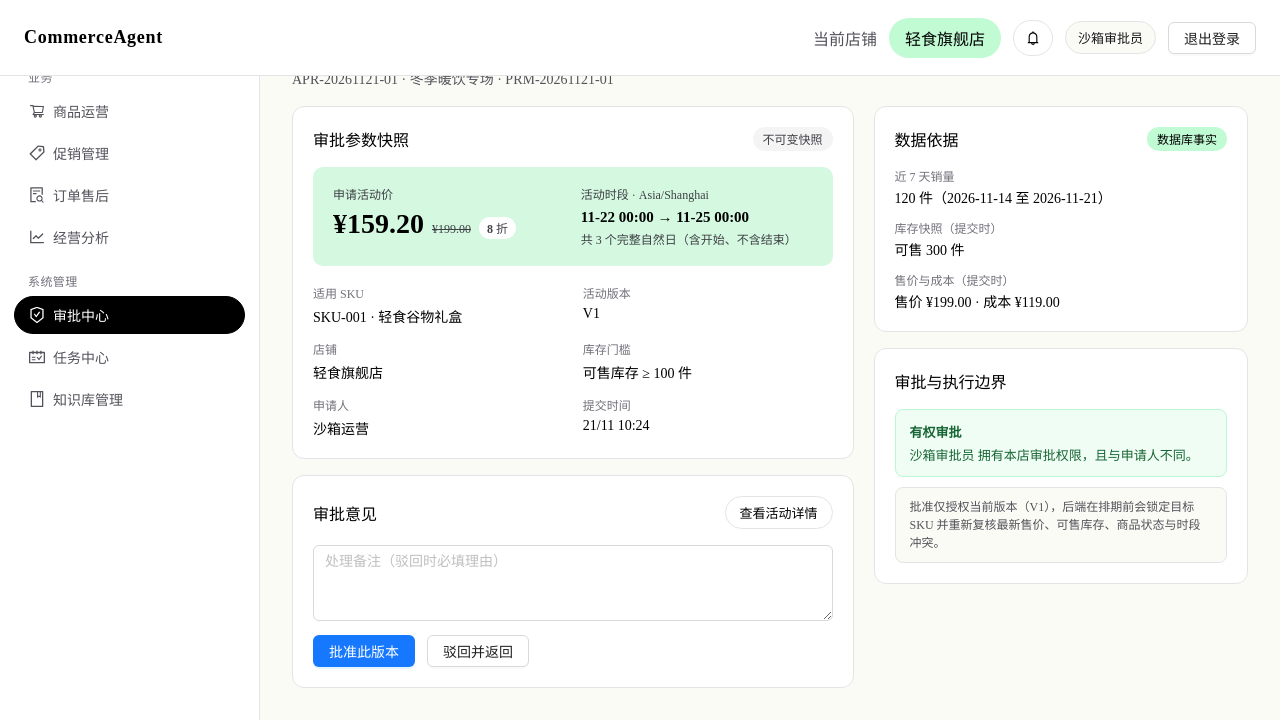
Test: 促销管理与审批中心 › lets an authorized approver approve a snapshot and blocks self-approval in UI
(page scrolled)
Check: the heading "审批参数快照" is shown, box x1=313 y1=127 x2=409 y2=151
Check: the text "有权审批" is shown, box x1=910 y1=425 x2=962 y2=440
Step 1. Click the button "批准此版本" → (364, 651), box x1=313 y1=635 x2=415 y2=667
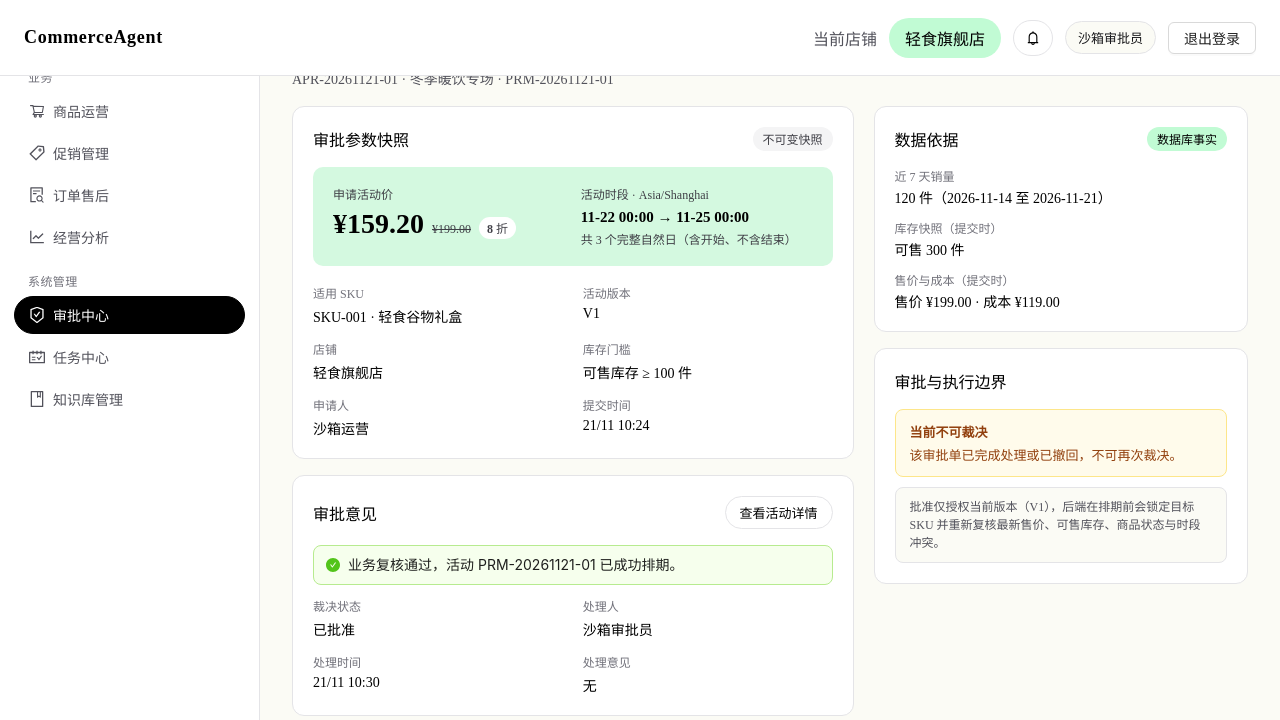
Check: the text "业务复核通过，活动 PRM-20261121-01 已成功排期。" is shown, box x1=348 y1=556 x2=684 y2=573
